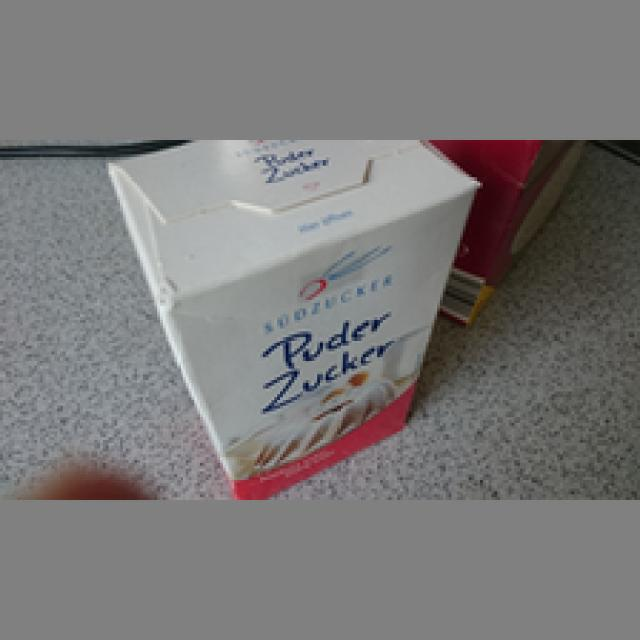groceries: (103, 137, 480, 494)
